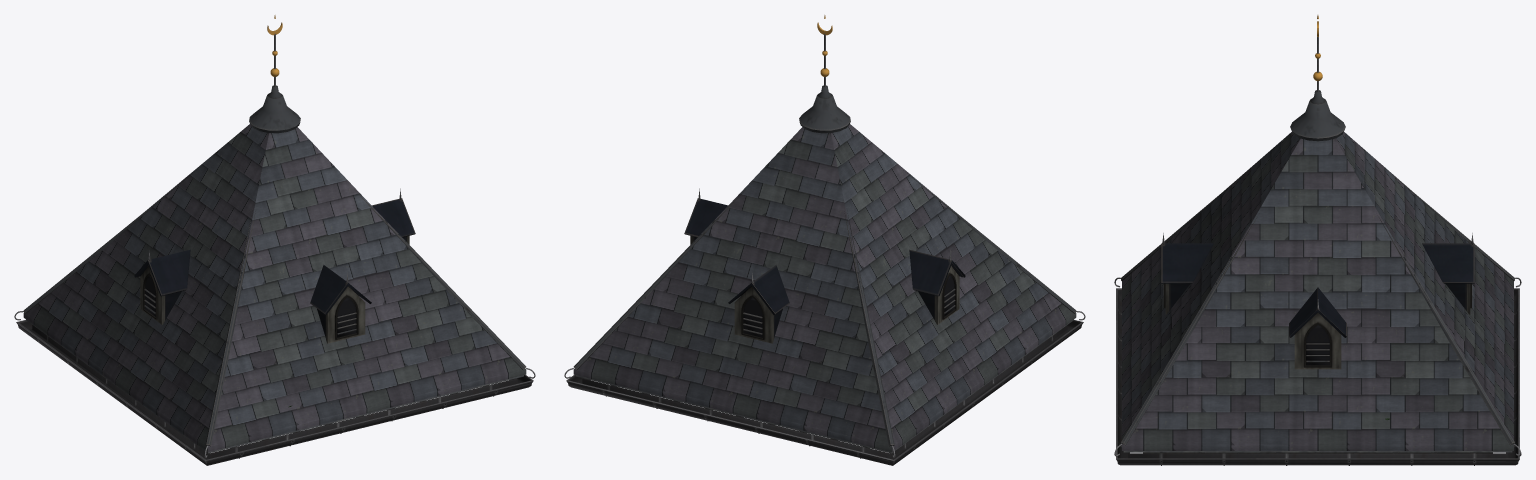
File: PyramidRoof.fbx
The picture shows the model from 3 angles, left to right: view 1: azimuth 30°, elevation 25°; view 2: azimuth 150°, elevation 25°; view 3: azimuth 270°, elevation 25°; orthographic projection. The views are drawn at different scales.
Visible parts, largest first — view 1: PyramidRoof_Slate, PyramidRoof_Main, PyramidRoof_Lead; view 2: PyramidRoof_Slate, PyramidRoof_Main, PyramidRoof_Lead; view 3: PyramidRoof_Slate, PyramidRoof_Main, PyramidRoof_Lead.
Boxes of the visible parts, box(x1,y1,x2,y2) form: PyramidRoof_Slate: box(23, 124, 526, 452); PyramidRoof_Main: box(14, 15, 535, 465); PyramidRoof_Lead: box(26, 319, 523, 453); PyramidRoof_Slate: box(573, 124, 1076, 452); PyramidRoof_Main: box(564, 15, 1085, 465); PyramidRoof_Lead: box(576, 319, 1073, 453); PyramidRoof_Slate: box(1122, 132, 1513, 450); PyramidRoof_Main: box(1114, 15, 1521, 465); PyramidRoof_Lead: box(1123, 451, 1512, 452).
Size of the model in its own units: 1402 by 1404 by 1402.
